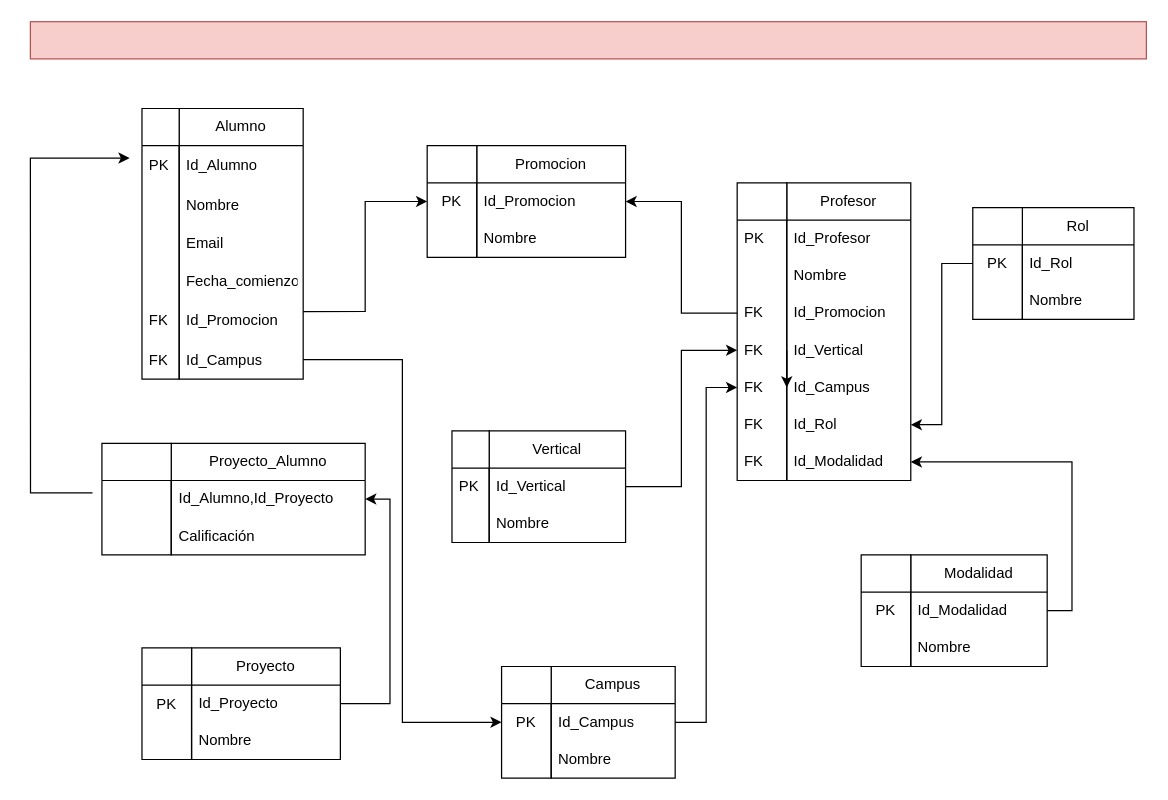
Some shapes in this 1168 by 800 pixel diagram are drawn without their labels. The shapes that lost their labels are listed below. From the top down, each one's centre as x and y in pixels, then its label:
At (x=587, y=39): "Modelo Lógico".
At (x=136, y=498): "PK,FK".
